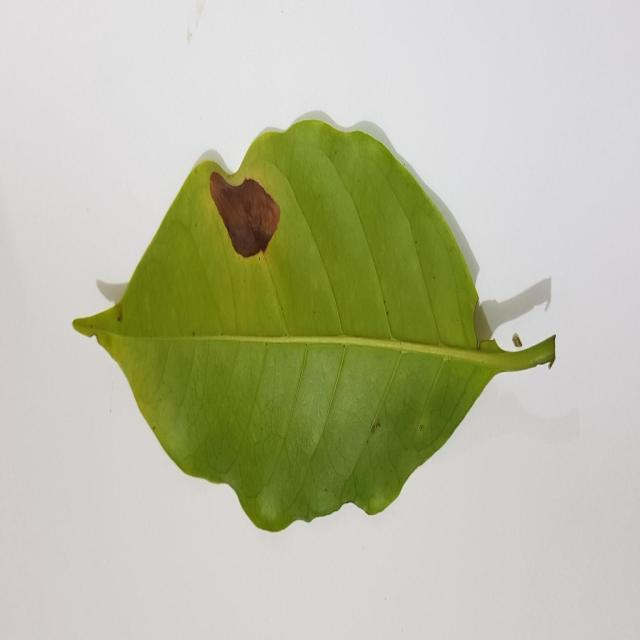miner: (210, 170, 280, 258)
